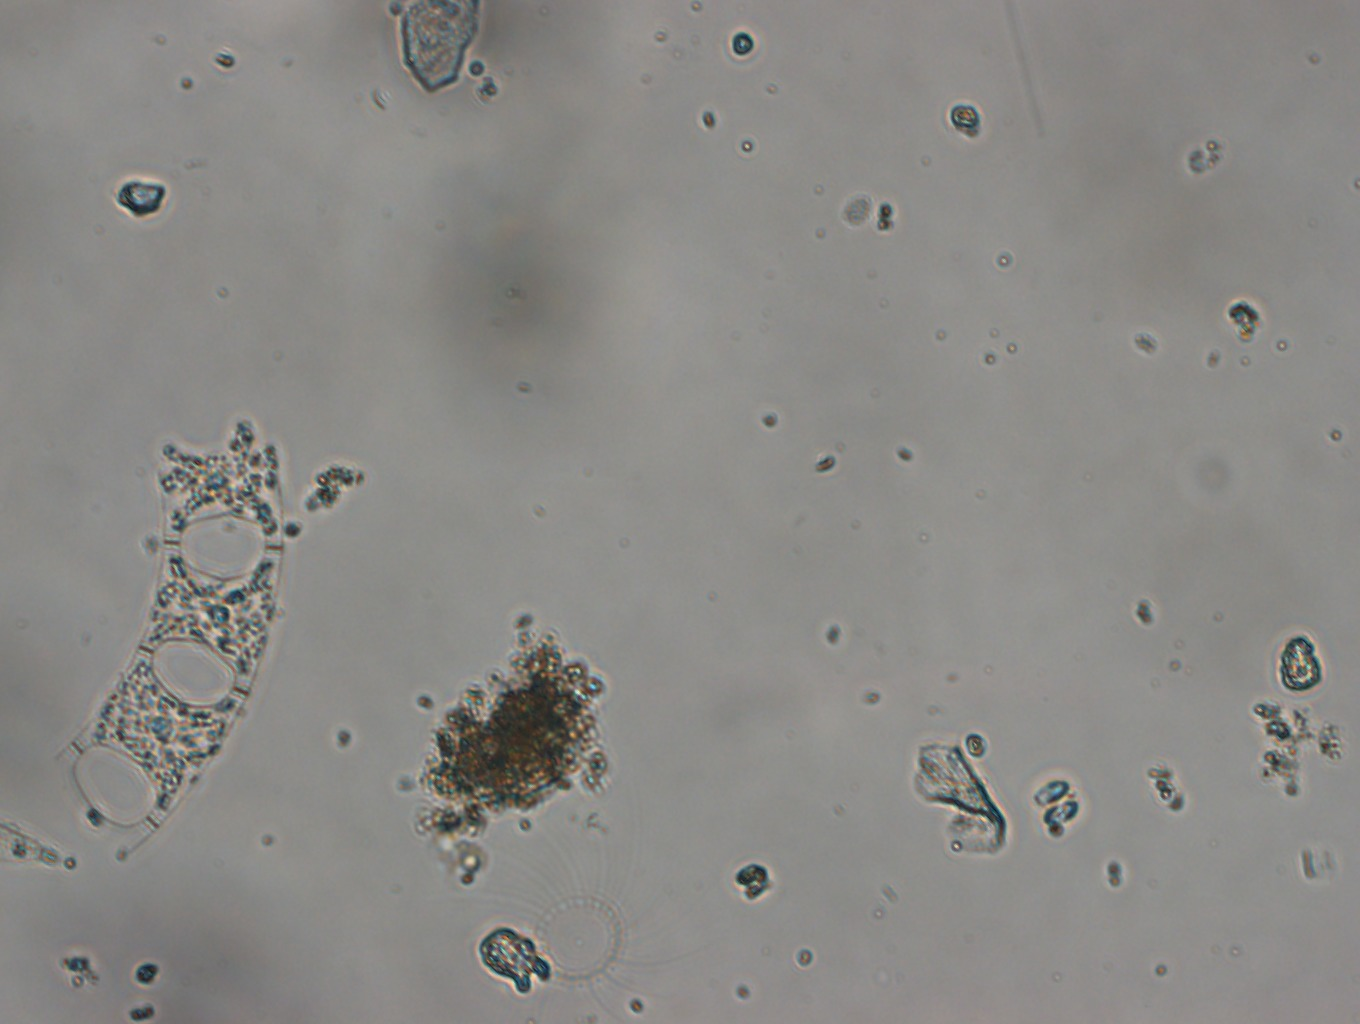eucampia: (52, 407, 283, 852)
